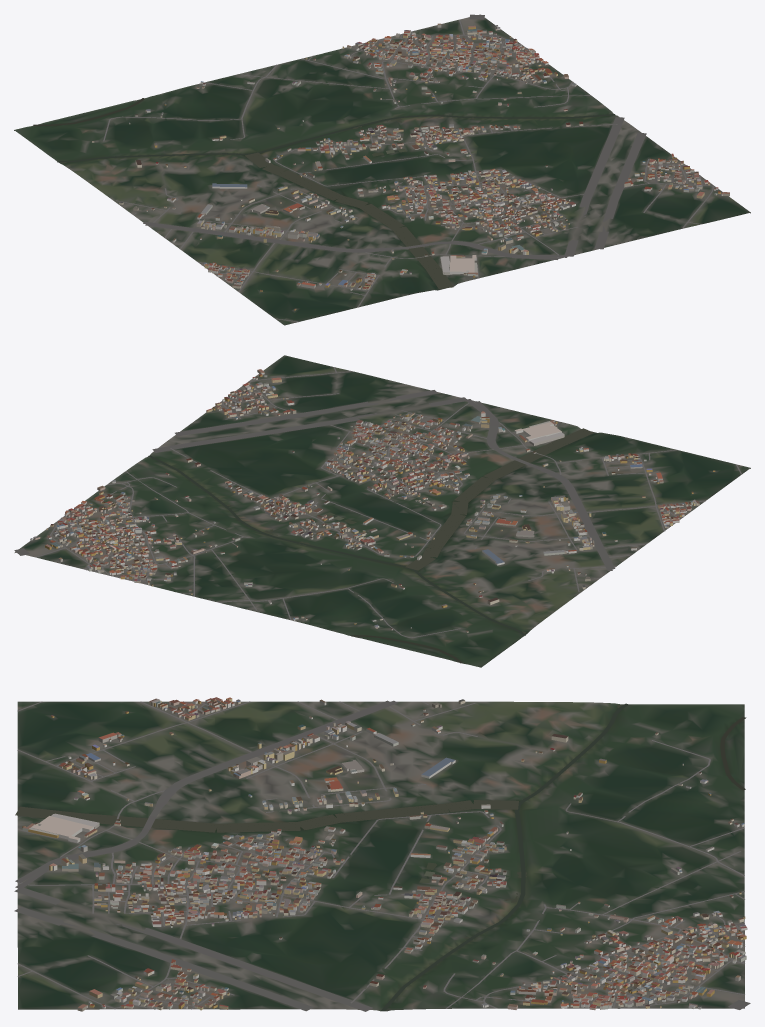
3 renders of one model, top to bottom at view 1: azimuth 30°, elevation 25°; view 2: azimuth 150°, elevation 25°; view 3: azimuth 270°, elevation 25°, orthographic. The views are drawn at different scales.
Visible parts, largest first — view 1: ground, buildings, roads, water; view 2: ground, buildings, roads, water; view 3: ground, buildings, roads, water.
Boxes of the visible parts, x1=… form: ground: x1=14, y1=14, x2=750, y2=325; buildings: x1=92, y1=23, x2=729, y2=310; roads: x1=103, y1=14, x2=714, y2=321; water: x1=33, y1=98, x2=615, y2=288; ground: x1=14, y1=355, x2=750, y2=667; buildings: x1=30, y1=369, x2=715, y2=632; roads: x1=14, y1=367, x2=741, y2=637; water: x1=148, y1=428, x2=593, y2=663; ground: x1=17, y1=701, x2=744, y2=1011; buildings: x1=22, y1=697, x2=747, y2=1011; roads: x1=14, y1=700, x2=750, y2=1011; water: x1=15, y1=703, x2=746, y2=1011.
Bounding box in the file's own units: 1415 × 25.56 × 1421.
